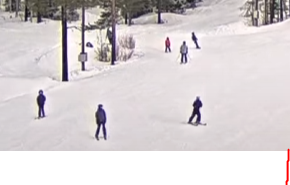skier: (185, 96, 207, 127), (94, 104, 109, 141), (32, 89, 47, 120), (176, 41, 192, 65), (165, 37, 171, 53)
snowboarder: (191, 31, 202, 50)
